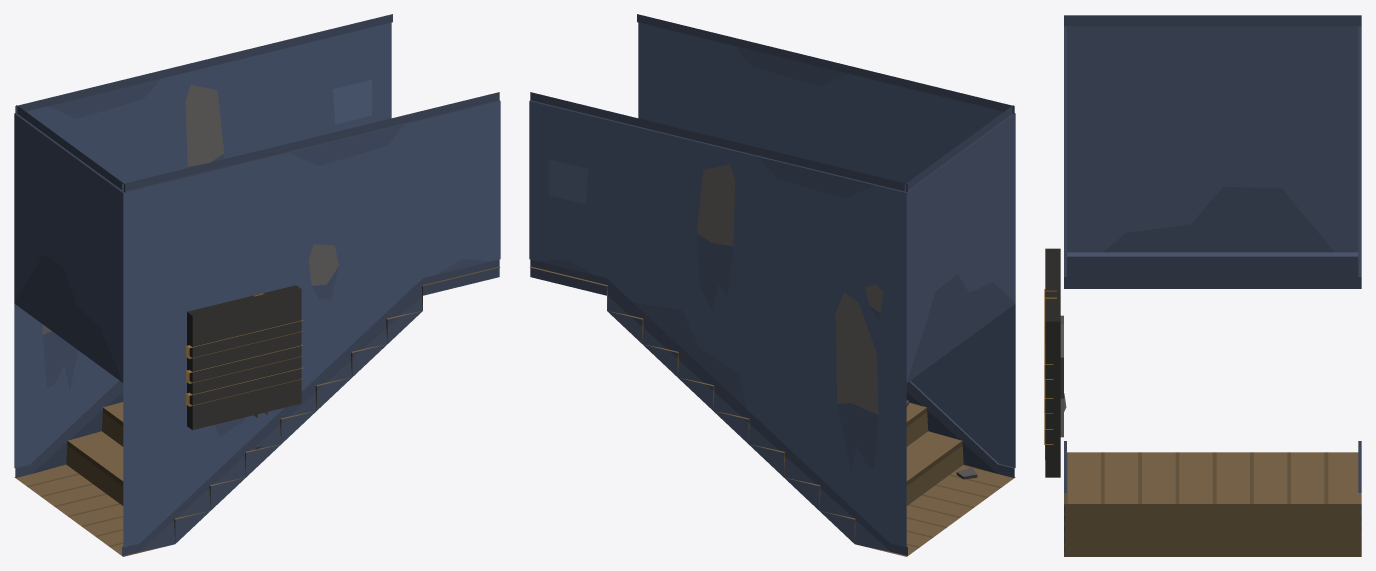
Rendered from AI_Env_Stairs_Blue.fbx.
3 views of the same model, side by side, from view 1: azimuth 30°, elevation 25°; view 2: azimuth 150°, elevation 25°; view 3: azimuth 270°, elevation 25° (orthographic). The views are drawn at different scales.
Visible parts, largest first — view 1: AI_Env_Stairs_Blue; view 2: AI_Env_Stairs_Blue; view 3: AI_Env_Stairs_Blue.
Boxes of the visible parts, box(x1,y1,x2,y2) form: AI_Env_Stairs_Blue: box(14, 14, 500, 556); AI_Env_Stairs_Blue: box(529, 14, 1015, 556); AI_Env_Stairs_Blue: box(1044, 15, 1361, 556).
Size of the model in its own units: 10 by 9.46 by 5.33.
